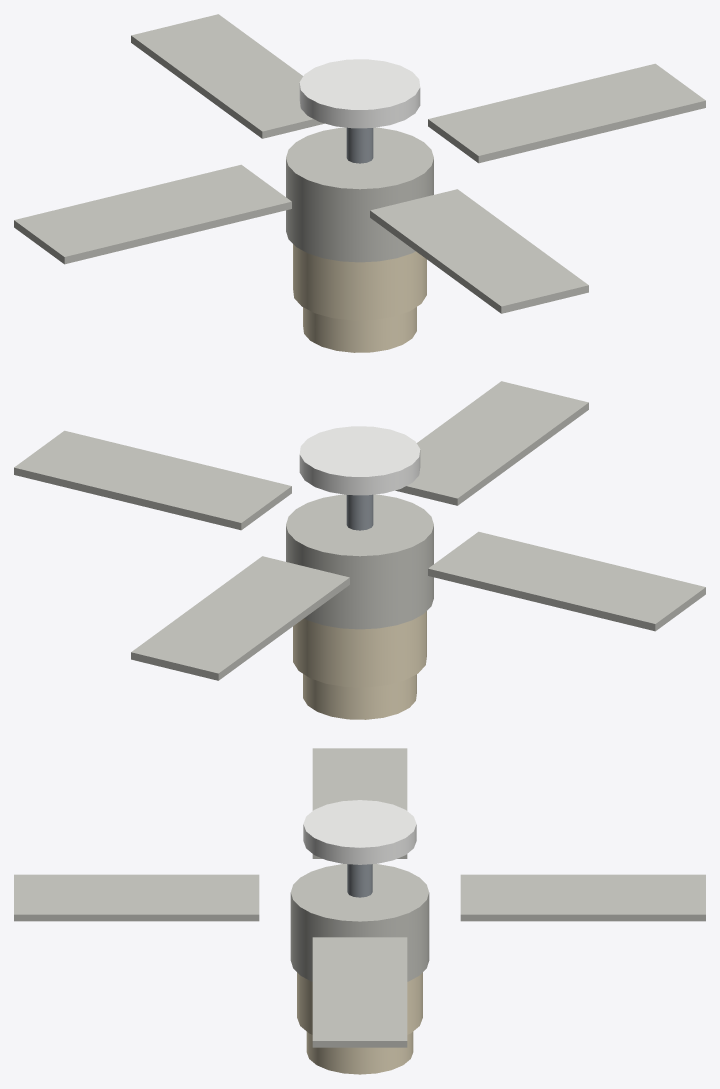
The model's file is ceilingfan.glb.
The picture shows the model from 3 angles, top to bottom: view 1: azimuth 30°, elevation 25°; view 2: azimuth 150°, elevation 25°; view 3: azimuth 270°, elevation 25°; orthographic projection. The views are drawn at different scales.
Visible parts, largest first — view 1: material-0-body, material-3-lit, material-2-trim, material-1-metal; view 2: material-0-body, material-3-lit, material-2-trim, material-1-metal; view 3: material-0-body, material-2-trim, material-3-lit, material-1-metal.
Boxes of the visible parts, <box> form: material-0-body: <box>14,14,705,313</box>; material-3-lit: <box>293,244,426,352</box>; material-2-trim: <box>299,59,420,128</box>; material-1-metal: <box>346,127,373,163</box>; material-0-body: <box>14,381,705,680</box>; material-3-lit: <box>293,611,426,719</box>; material-2-trim: <box>299,426,420,495</box>; material-1-metal: <box>346,494,373,530</box>; material-0-body: <box>14,748,705,1047</box>; material-2-trim: <box>303,800,416,864</box>; material-3-lit: <box>297,972,422,1074</box>; material-1-metal: <box>347,864,372,897</box>.
Size of the model in its own units: 1.1 by 0.4 by 1.1.
